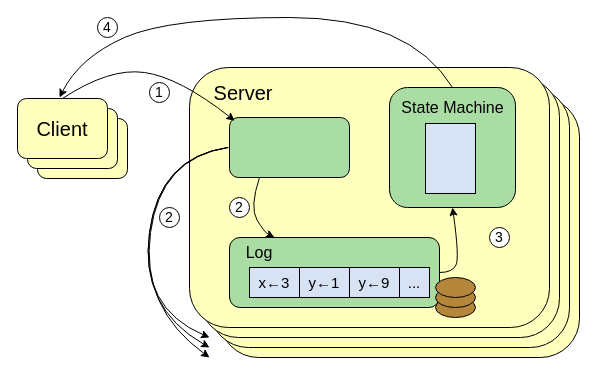
The diagram is 597 pixels wide and 375 high, and some of its shapes have lost their labels. Here are the shapes that lost their labels. From the top down, the box of each, then its label:
(228, 116, 350, 178): Consensus Module
(424, 122, 476, 194): x:3 y:9 z:0
